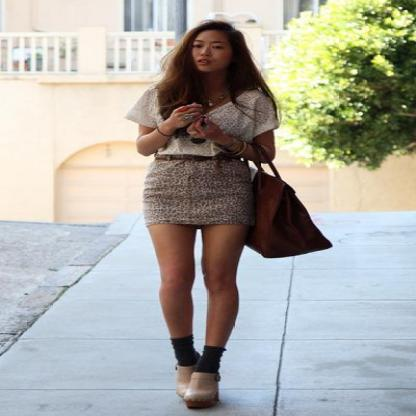bag: (237, 158, 332, 257)
shirt: (127, 92, 279, 156)
shoe: (172, 363, 220, 415)
skirt: (143, 142, 268, 235)
